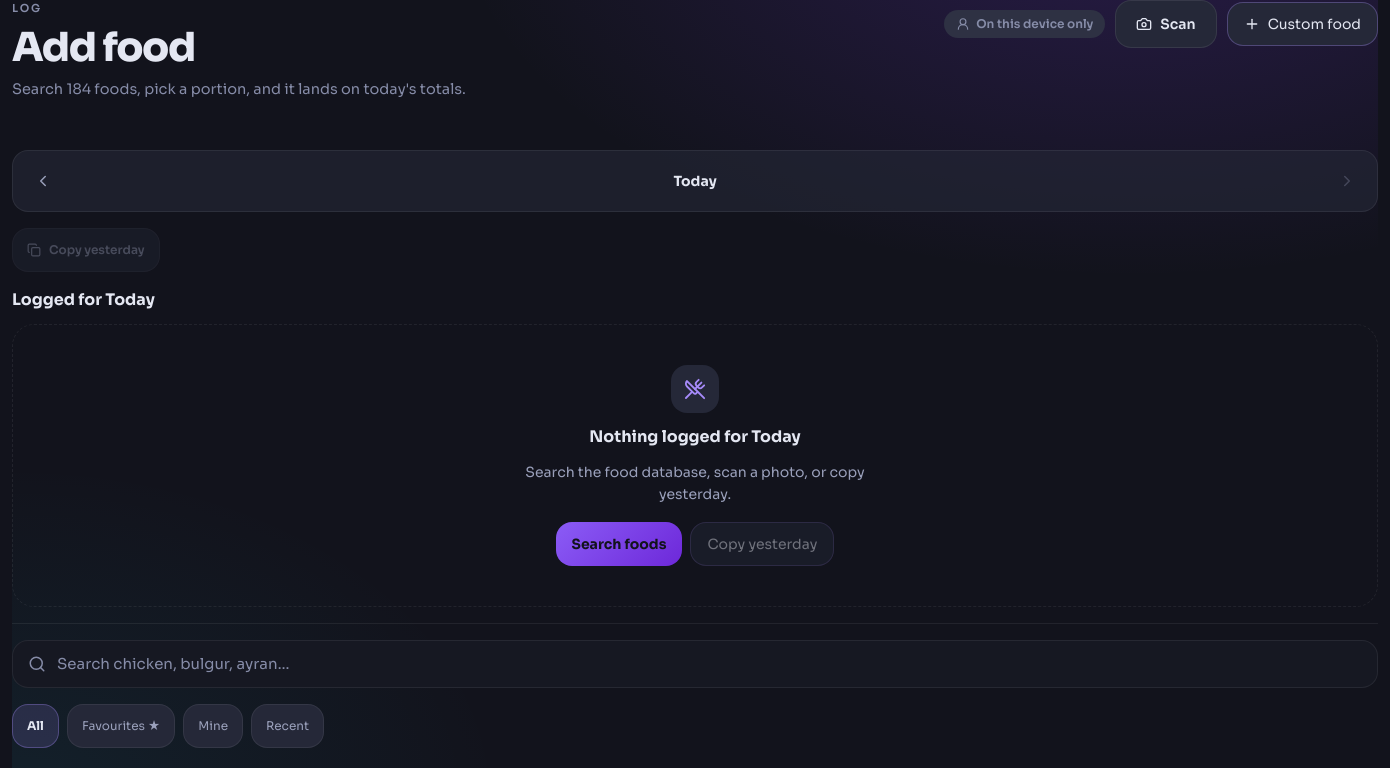
Test case: favourites & quick-add › shows the empty favourites state until something is starred
The width and height of the screenshot is (1390, 768).
Click the button "Favourites ★". click: (121, 726)
box: [67, 704, 175, 748]
(page scrolled)
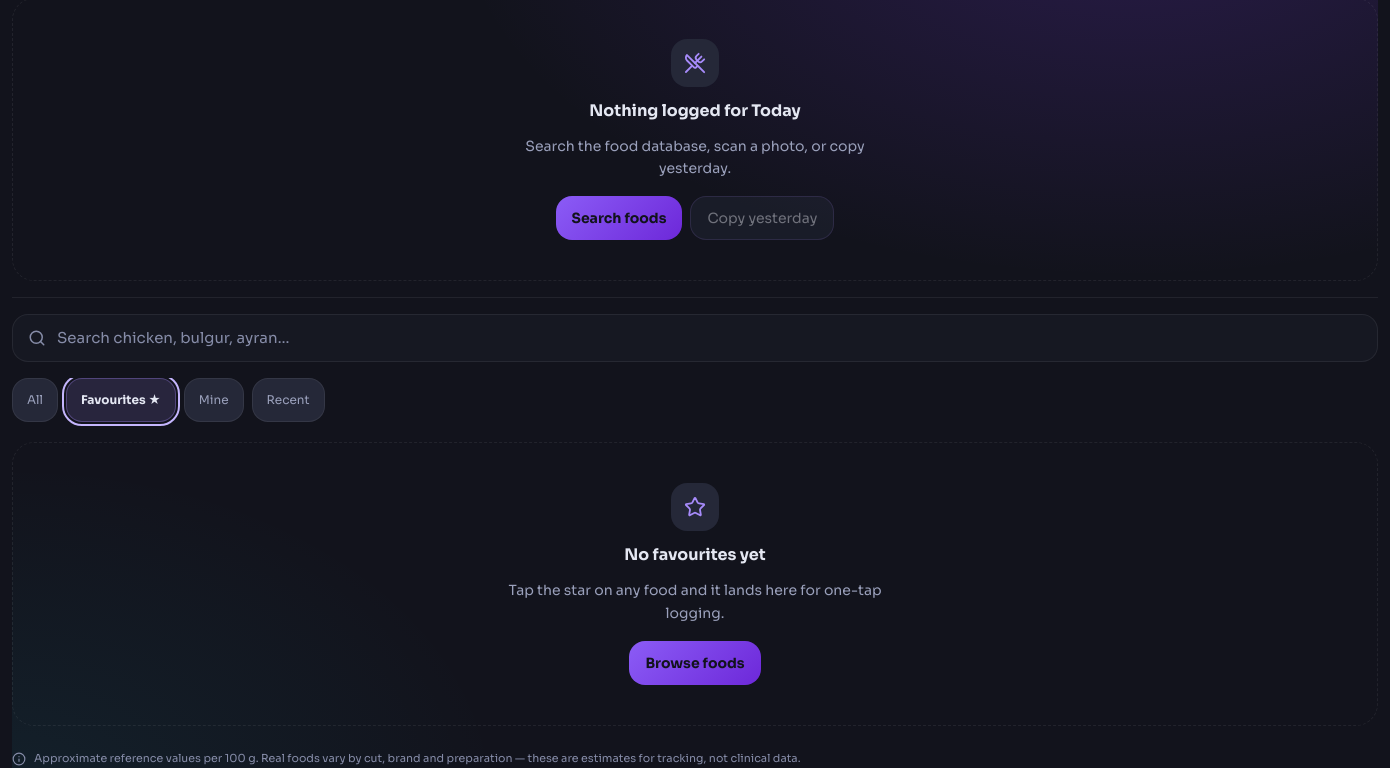
expect the heading "No favourites yet" is shown: met, box [624, 543, 766, 567]
